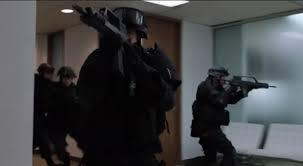rifle: (73, 3, 154, 79), (211, 74, 278, 98)
